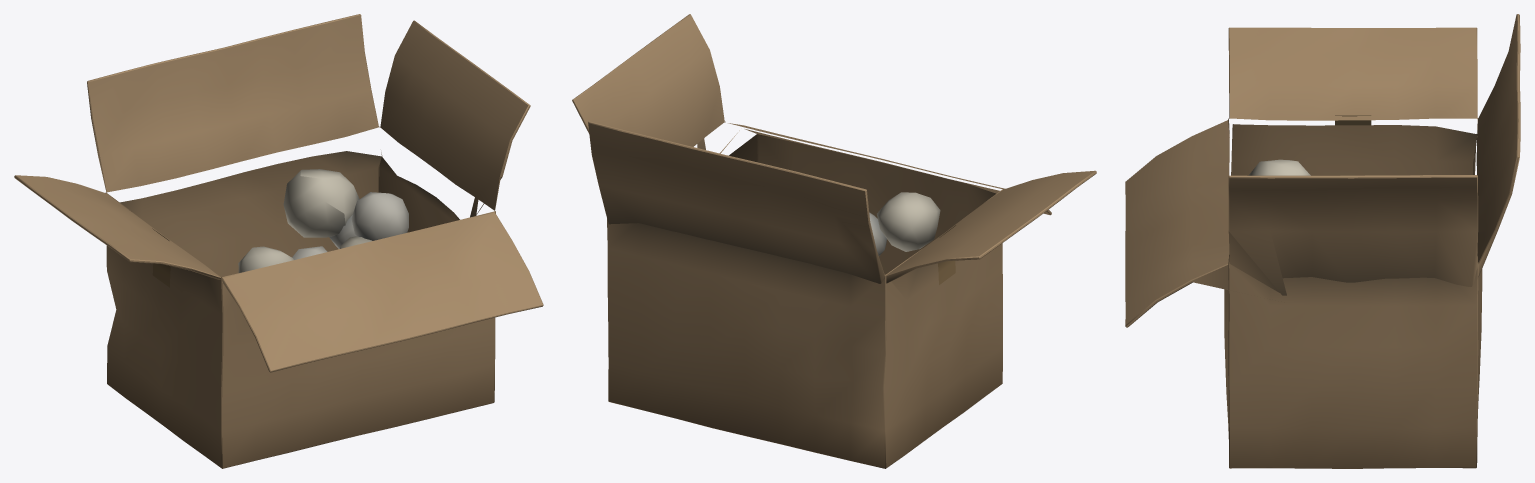
The model's file is box_open.glb.
The picture shows the model from 3 angles, left to right: view 1: azimuth 30°, elevation 25°; view 2: azimuth 150°, elevation 25°; view 3: azimuth 270°, elevation 25°; orthographic projection. The views are drawn at different scales.
Parts seen in each view (by area): view 1: box_open; view 2: box_open; view 3: box_open.
Part boxes in pixels (left/top/right/bottom): box_open: left=14, top=14, right=543, bottom=468; box_open: left=572, top=14, right=1096, bottom=468; box_open: left=1125, top=14, right=1520, bottom=468.
Size of the model in its own units: 0.6621 by 0.4585 by 0.5244.
